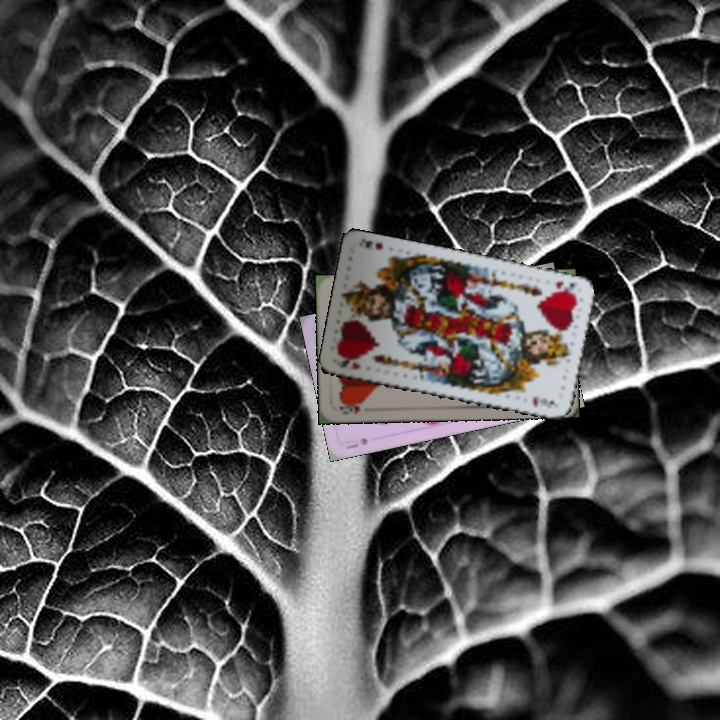HK: (333, 353, 363, 372), (551, 277, 579, 296)
HO: (335, 398, 368, 416)
SU: (342, 434, 371, 451)
